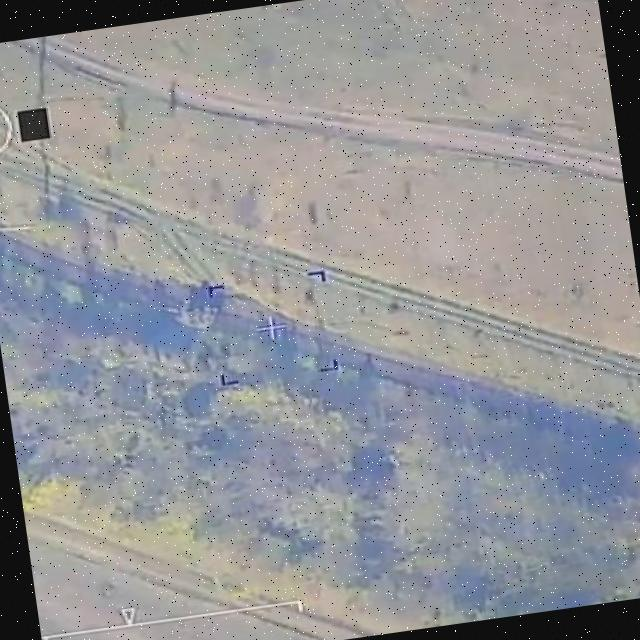MBT: (157, 290, 226, 339)
